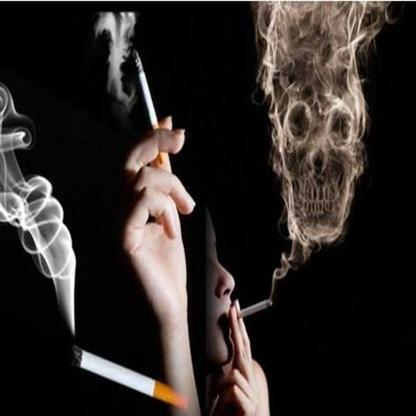trash: (72, 343, 196, 410), (132, 53, 172, 164), (237, 294, 276, 324)
